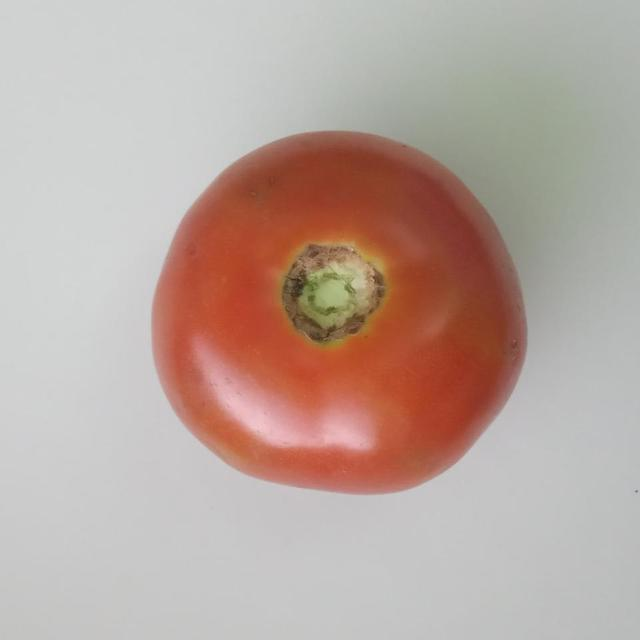Healthy Fruit: (87, 75, 373, 339)
